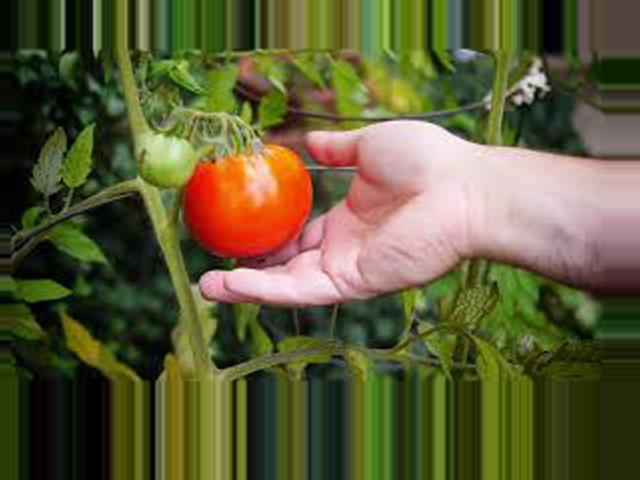tomato: (179, 141, 313, 257)
